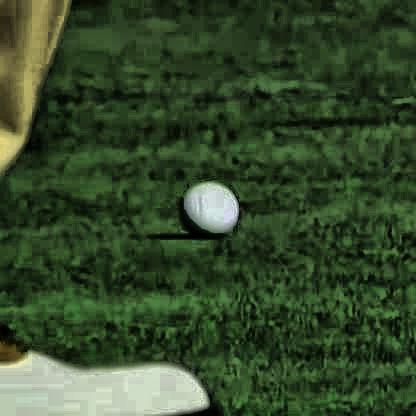golfball: (177, 181, 236, 237)
